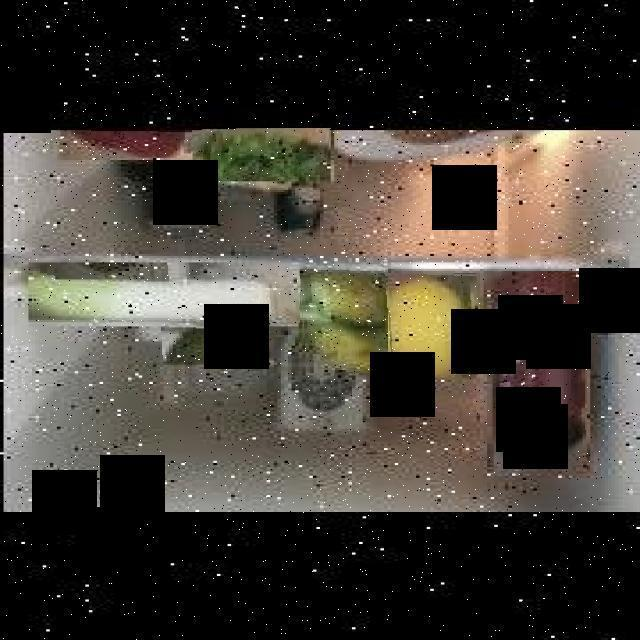banana: (298, 258, 388, 373)
bell_pepper: (57, 128, 192, 158)
leek: (31, 259, 300, 323)
lemon: (386, 271, 478, 375)
mango: (154, 306, 268, 362)
salad: (185, 128, 331, 179)
tomato_sauce: (487, 271, 587, 474)
